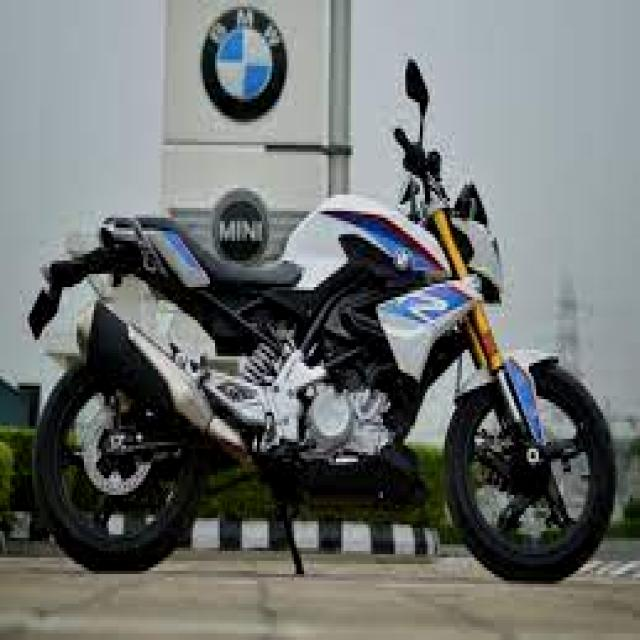MOTORCYCLE: (16, 197, 628, 578)
